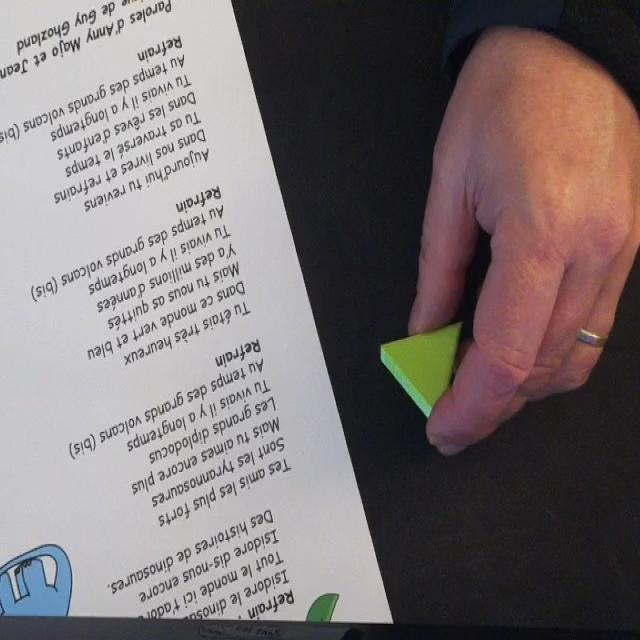triangle: (380, 319, 464, 428)
